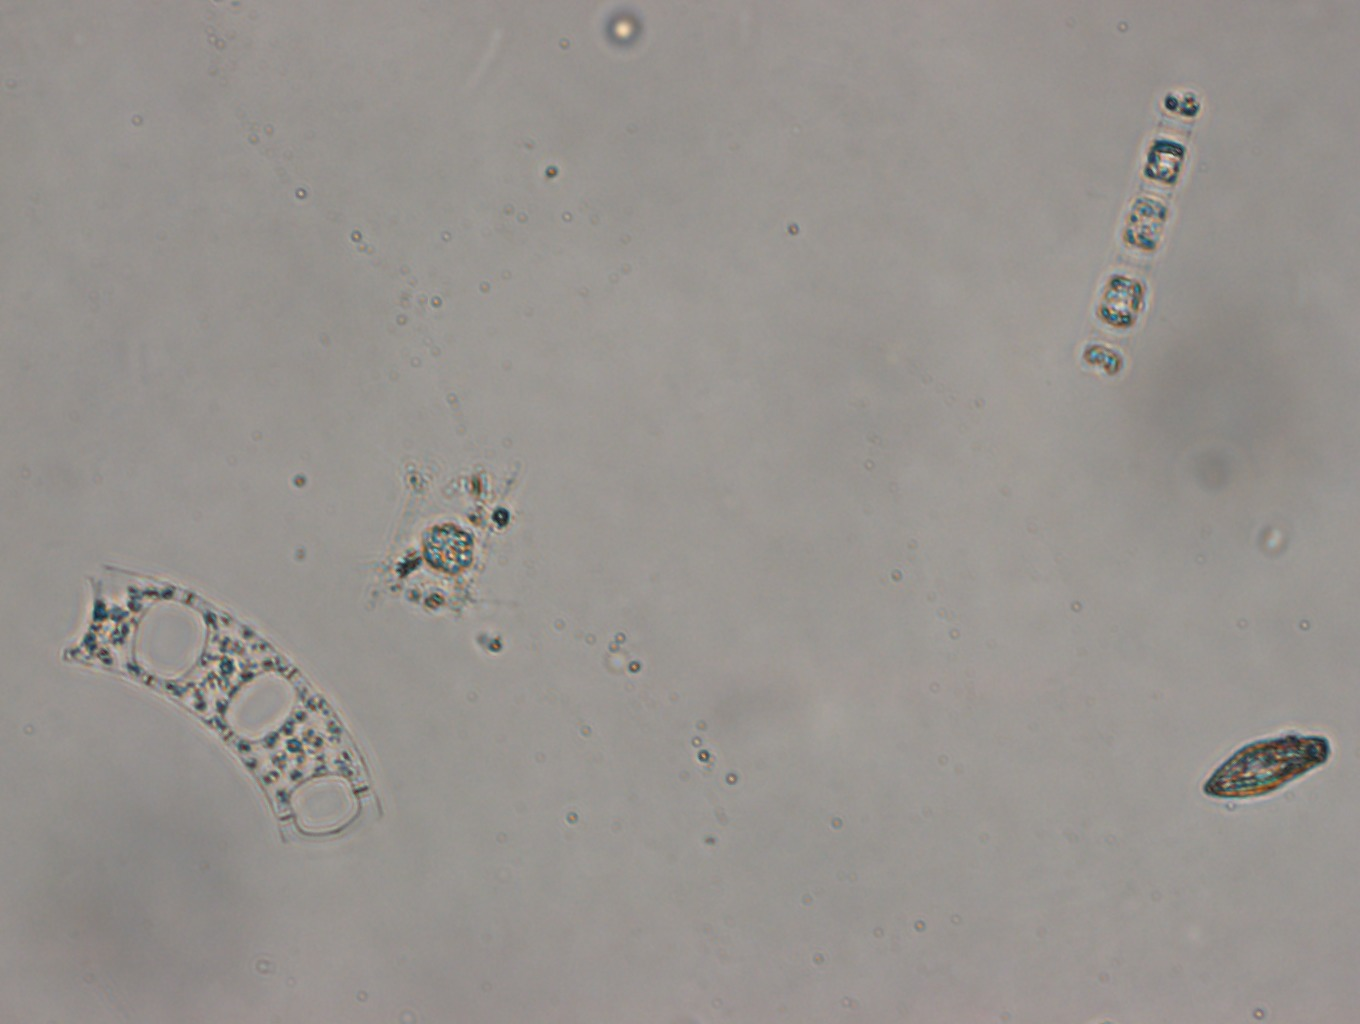chaetoceros: (362, 447, 530, 622)
eucampia: (65, 564, 387, 863)
skeletonema: (1074, 81, 1209, 388)
